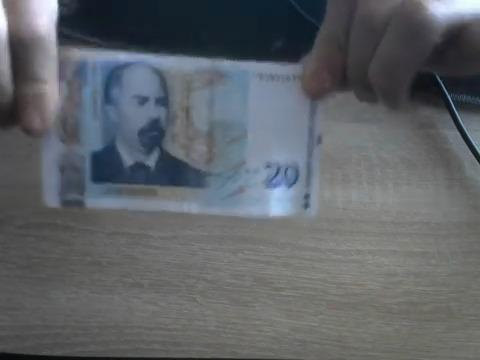20leva: (90, 62, 317, 218)
